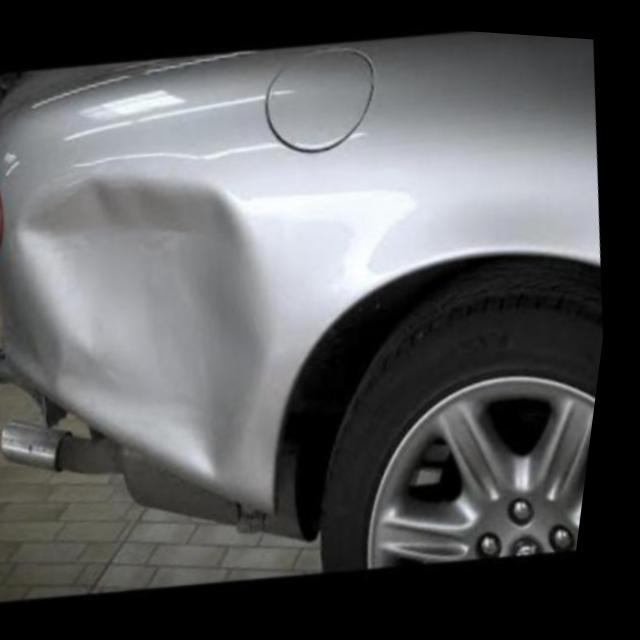dent: (20, 155, 284, 472)
